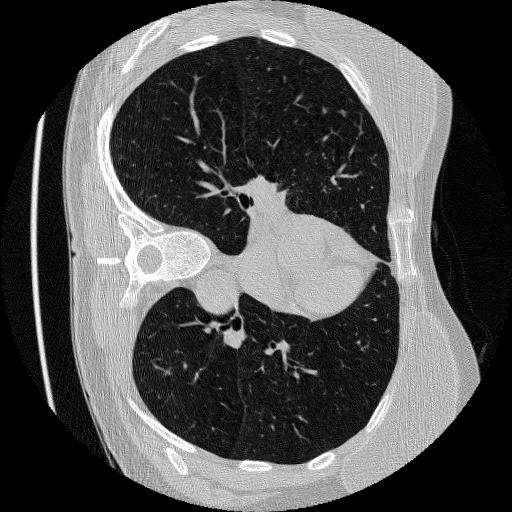nodule: (337, 107, 350, 120)
